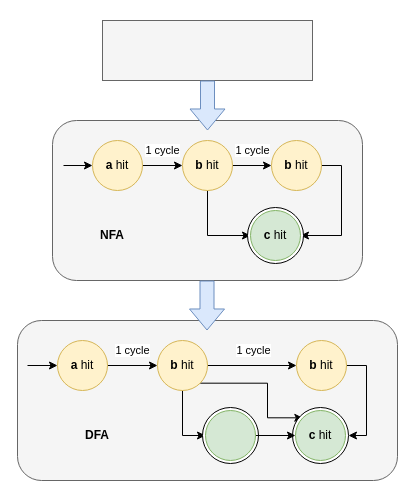
Image size: 415x498. Some labels were removed from this diagram. The shapes that lost their labels are listed below. From the top down, each one's centre as x and y in pixels, then its label:
At point (207, 50): "sequence a_seq_b12_seq_c a ## 1 b [ * 1 : 2 ] ## c endsequence".
At point (230, 435): "c hit & b hit".
